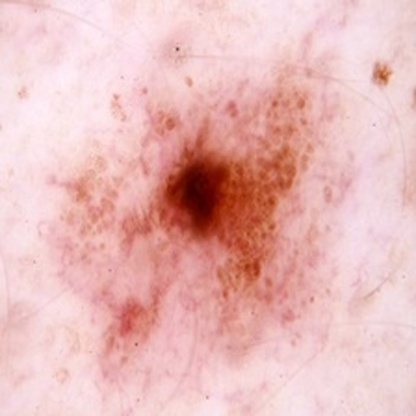benign: (110, 92, 294, 302)
